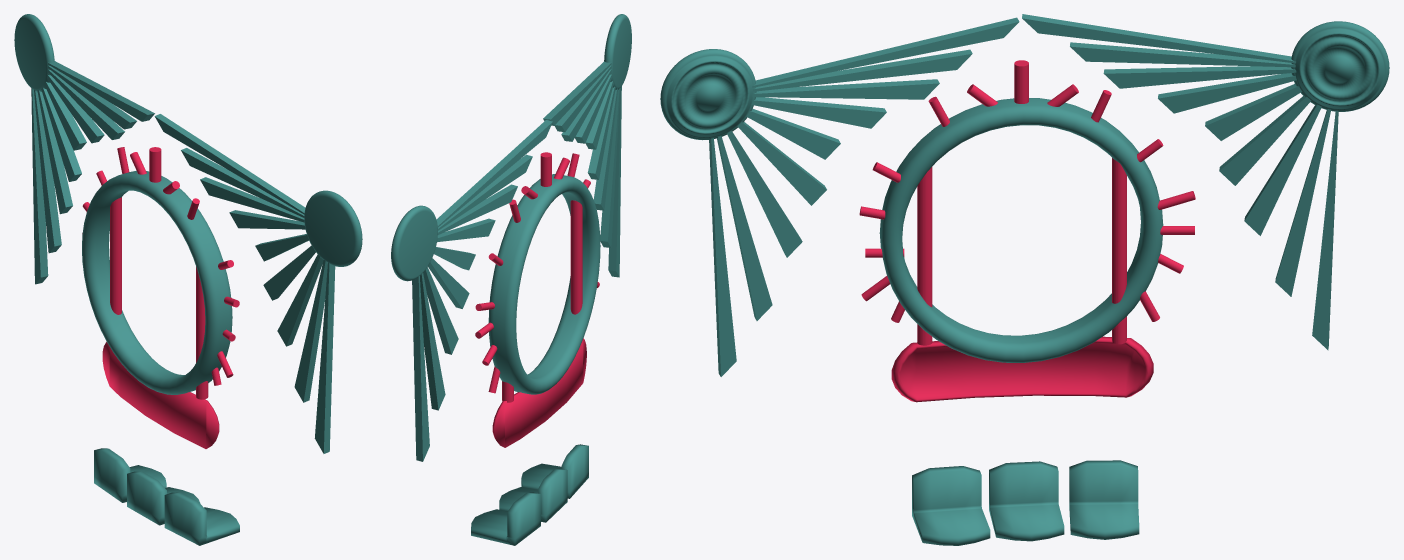
File: ParedeEsquerda.fbx
The picture shows the model from 3 angles, left to right: view 1: azimuth 30°, elevation 25°; view 2: azimuth 150°, elevation 25°; view 3: azimuth 270°, elevation 25°; orthographic projection. The views are drawn at different scales.
Visible parts, largest first — view 1: LeftWall; view 2: LeftWall; view 3: LeftWall.
Part boxes in pixels (x1=…): LeftWall: x1=14, y1=14, x2=362, y2=545; LeftWall: x1=391, y1=14, x2=631, y2=545; LeftWall: x1=660, y1=14, x2=1389, y2=545.
Bounding box in the file's own units: 325 × 1483 × 1965.
